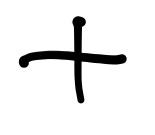plus: (19, 16, 127, 104)
